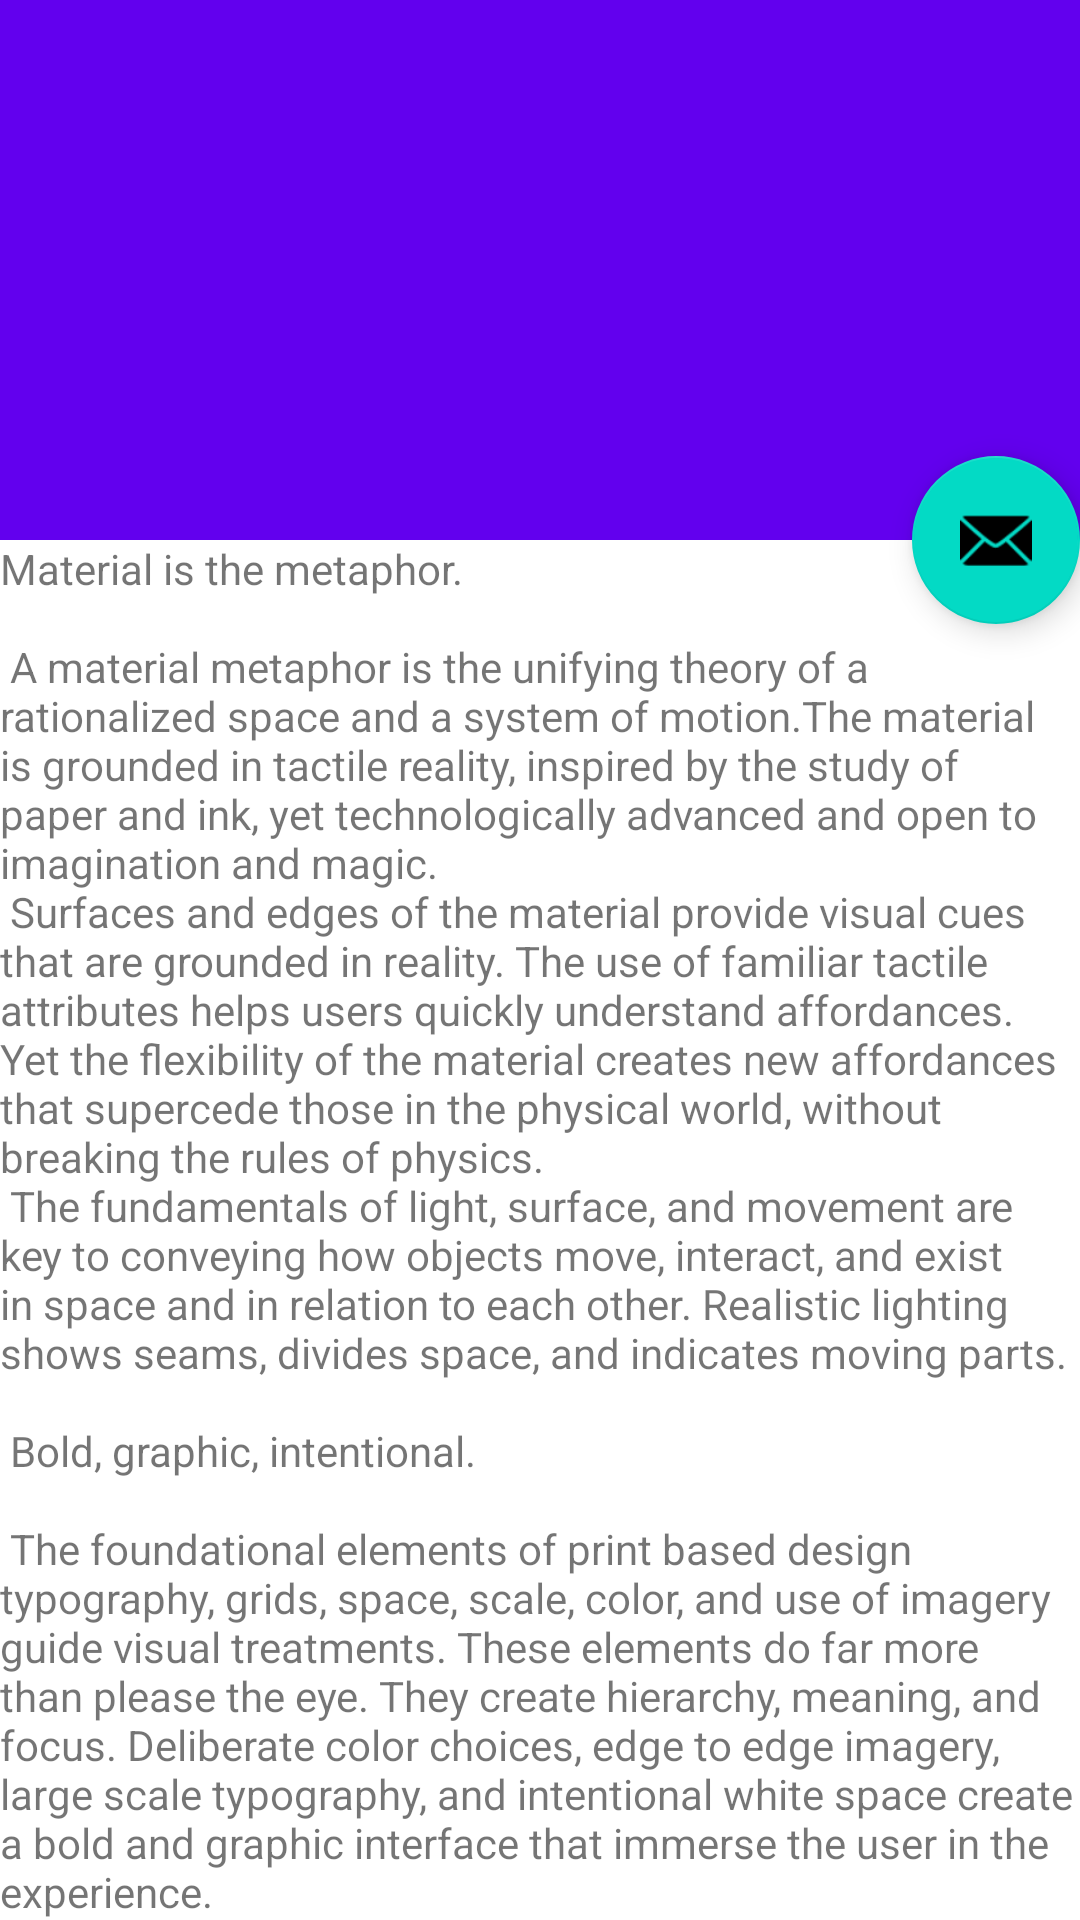

Screen size 1080 × 1920. Icon name, then its center in pixels as (x=x, y=y):
email: (x=996, y=540)
